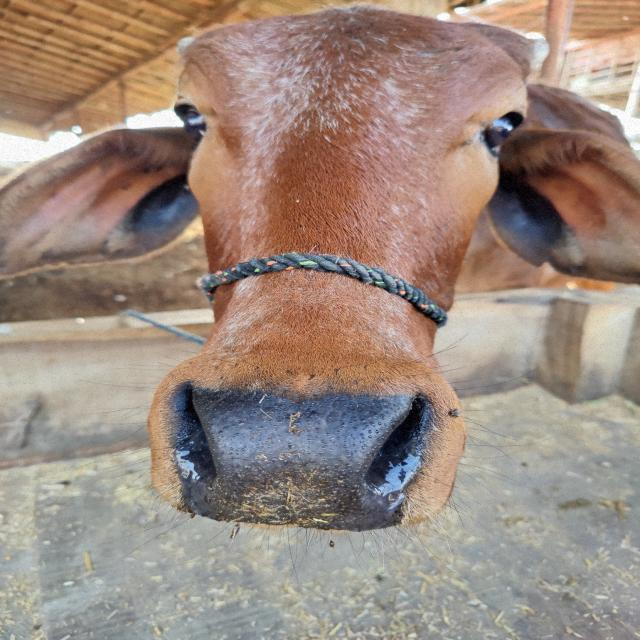muzzles: (158, 374, 447, 532)
